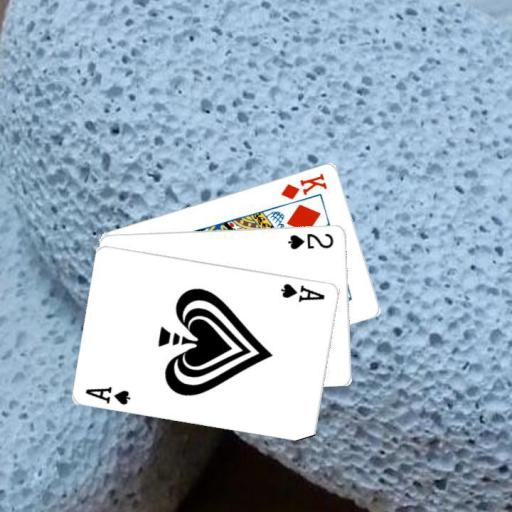2S: (285, 230, 336, 250)
AS: (278, 280, 327, 304), (83, 383, 133, 406)
KD: (278, 170, 329, 200)
